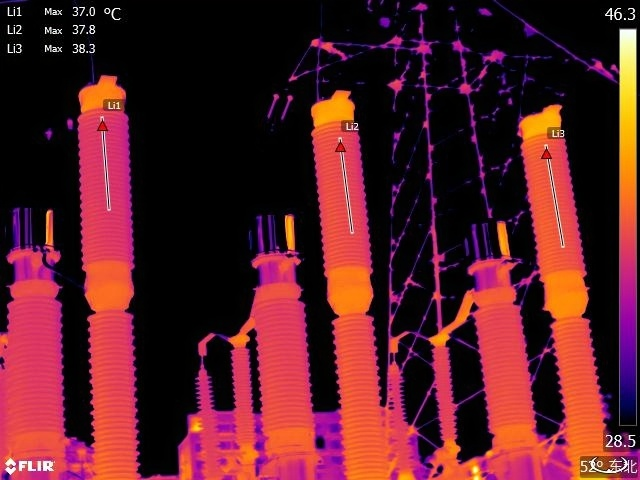circuit breaker: (308, 90, 411, 480), (521, 94, 612, 480), (74, 66, 156, 480)
current transformer: (464, 207, 549, 455), (248, 204, 323, 467), (3, 199, 73, 480)
lightning arrester: (389, 356, 413, 480), (195, 359, 218, 480)
post insulator: (227, 331, 259, 456), (431, 334, 460, 459)
